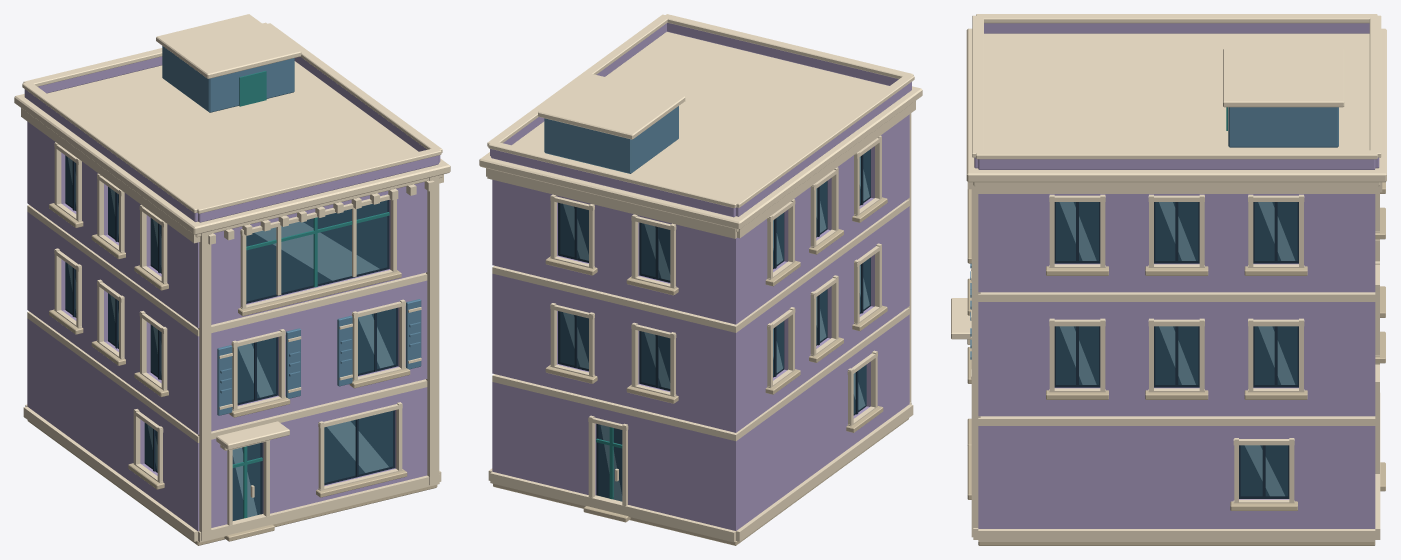
Rendered from artists_townhouse.glb.
The picture shows the model from 3 angles, left to right: view 1: azimuth 30°, elevation 25°; view 2: azimuth 150°, elevation 25°; view 3: azimuth 270°, elevation 25°; orthographic projection. The views are drawn at different scales.
Visible parts, largest first — view 1: ArtistsTownhouse_StaticMesh; view 2: ArtistsTownhouse_StaticMesh; view 3: ArtistsTownhouse_StaticMesh.
Boxes of the visible parts, bbox=[...] form: ArtistsTownhouse_StaticMesh: bbox=[14, 14, 450, 545]; ArtistsTownhouse_StaticMesh: bbox=[479, 14, 922, 545]; ArtistsTownhouse_StaticMesh: bbox=[951, 14, 1386, 545].
Size of the model in its own units: 7.82 by 10.68 by 9.88.
